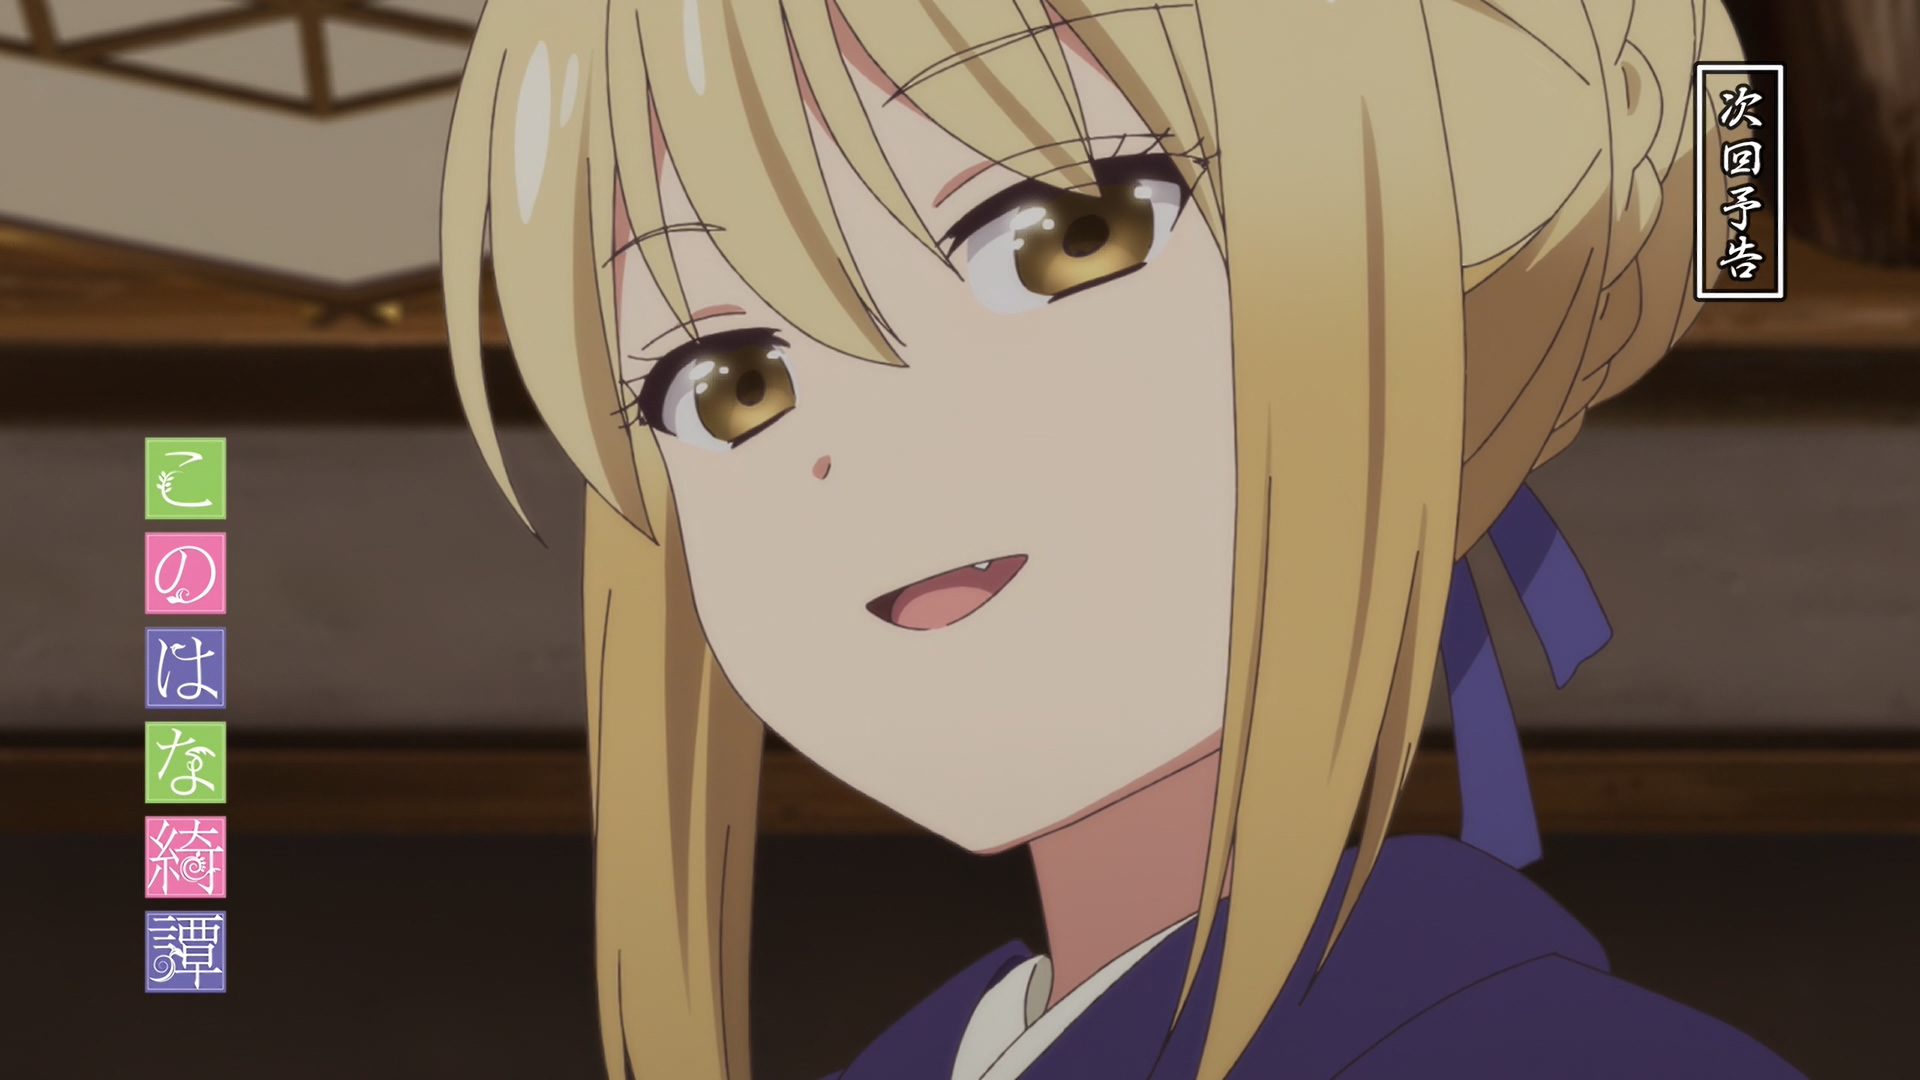桐: (438, 1, 1800, 1080)
